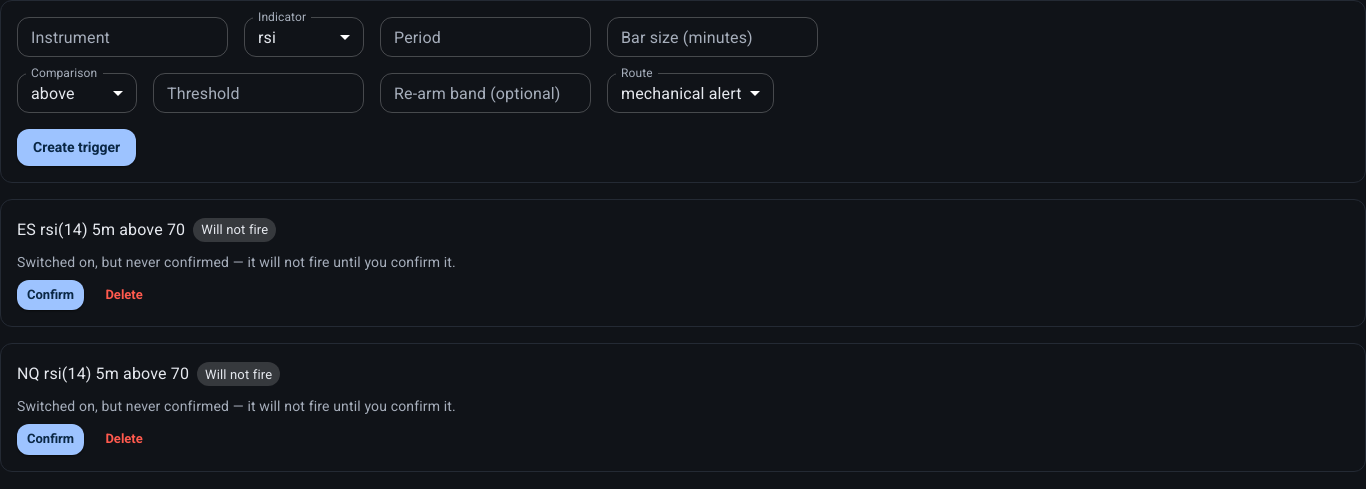
Test: TriggersSurface › an action on one row does not re-enable another row still in flight (gh#993 review)
This screenshot has width=1366, height=489.
Click the button with aria-label "Delete ES rsi(14) 5m above 70" at (124, 295), box [92,280,156,310]
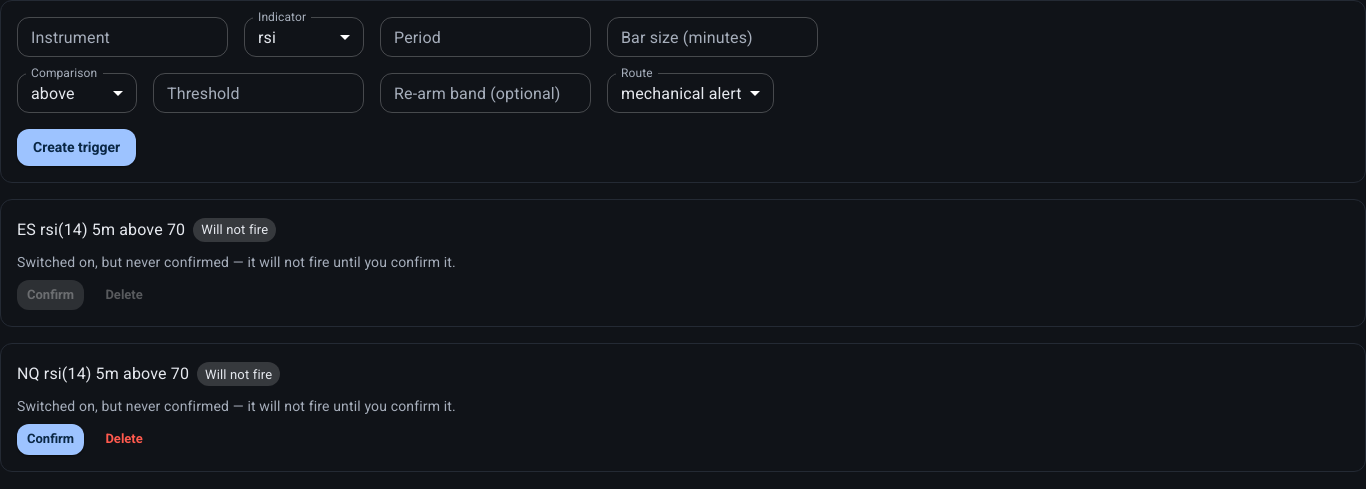
Click the button with aria-label "Confirm NQ rsi(14) 5m above 70" at (51, 440), box [17,424,84,455]
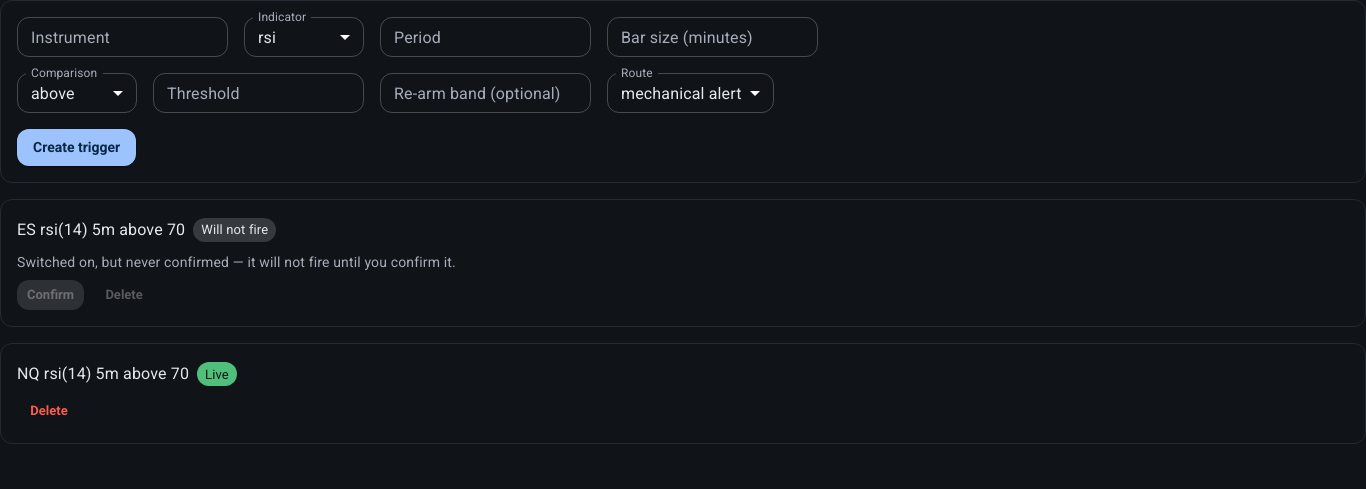
Expected: the button with aria-label "Delete ES rsi(14) 5m above 70" is disabled, [92,280,156,310]
Expected: the text "Live" is shown, [205,366,229,382]
